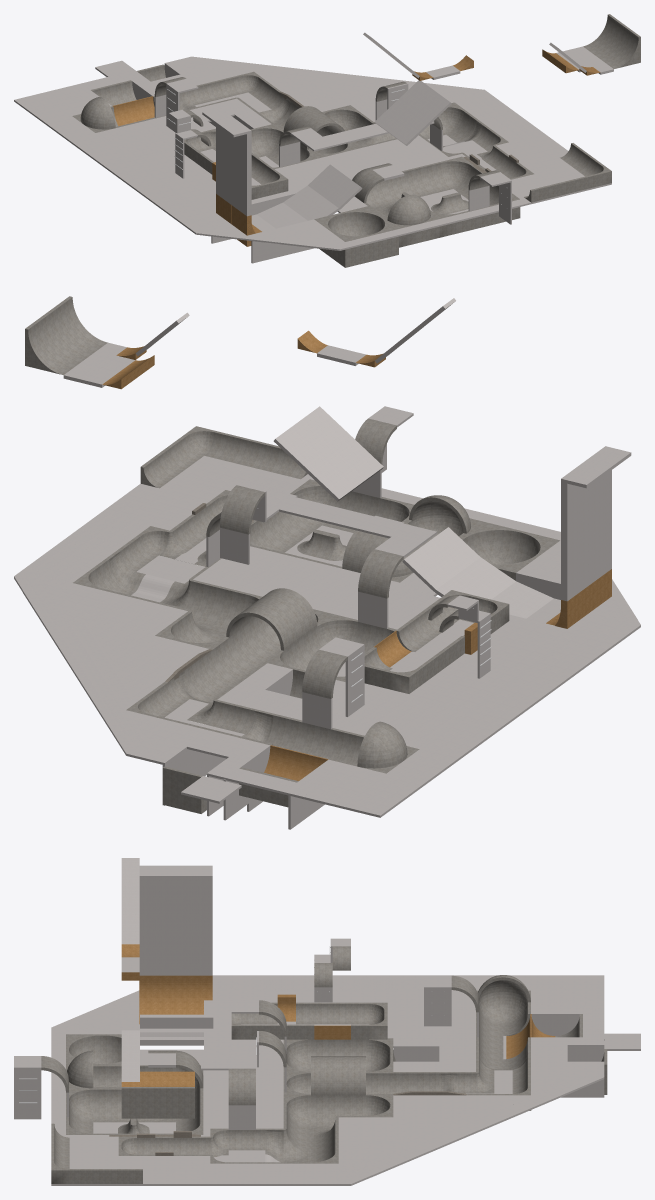
File: megapark-textured.glb
3 renders of one model, top to bottom at view 1: azimuth 30°, elevation 25°; view 2: azimuth 150°, elevation 25°; view 3: azimuth 270°, elevation 25°, orthographic. The views are drawn at different scales.
Parts seen in each view (by area): view 1: cmn_prp_dev_bk_bowl_bowlfloorlarge_mesh (×42), cmn_prp_dev_bk_bowl_bowlstraightmedium_mesh (×6), cmn_prp_dev_bk_bowl_bowlcornerroundoutlarge_mesh (×4), cmn_prp_dev_bk_bowl_bowlcornerroundoutmedium_mesh (×4), cmn_prp_dev_bk_bowl_bowlstraightlarge_mesh (×2), cmn_prp_dev_bk_bowl_bowlcradlemedium_mesh (×2), cmn_prp_dev_bk_bowl_bowlfloormedium_mesh (×2), cmn_prp_dev_bk_vert_fullpipemedium_mesh (×2), cmn_prp_dev_bk_vert_quarterpipespinemedium_mesh (×2), cmn_prp_dev_bk_vert_quarterpipevertlargeextended_mesh; view 2: cmn_prp_dev_bk_bowl_bowlfloorlarge_mesh (×52), cmn_prp_dev_bk_bowl_bowlstraightmedium_mesh (×11), cmn_prp_dev_bk_vert_fullpipemedium_mesh (×7), cmn_prp_dev_bk_bowl_bowlstraightlarge_mesh (×3), cmn_prp_dev_bk_bowl_bowlfloormedium_mesh (×3), cmn_prp_dev_bk_bowl_bowlcornerroundoutlarge_mesh (×2), cmn_prp_dev_bk_bowl_bowlcradlemedium_mesh, cmn_prp_dev_bk_bowl_bowlcornerroundoutmedium_mesh, cmn_prp_dev_bk_vert_quarterpipevertlargeextended_mesh, cmn_prp_dev_bk_vert_quarterpipespinemedium_mesh, cmn_prp_dev_bk_bowl_bowlstraightsmalltomediumflipped_mesh; view 3: cmn_prp_dev_bk_bowl_bowlfloorlarge_mesh (×42), cmn_prp_dev_bk_bowl_bowlcornerroundoutmedium_mesh (×8), cmn_prp_dev_bk_bowl_bowlstraightmedium_mesh (×8), cmn_prp_dev_bk_vert_fullpipemedium_mesh (×4), cmn_prp_dev_bk_vert_quarterpipevertlargeextended_mesh (×2), cmn_prp_dev_bk_bowl_bowlfloormedium_mesh (×4), cmn_prp_dev_bk_bowl_bowlstraightlarge_mesh (×2), cmn_prp_dev_bk_bowl_bowlcornerroundoutlarge_mesh (×2), cmn_prp_dev_bk_vert_fullpipesmall_mesh (×2), cmn_prp_dev_bk_bowl_bowlcradlemedium_mesh, cmn_prp_dev_bk_bowl_bowlstraightsmalltomedium_mesh, cmn_prp_dev_bk_bowl_bowlcornerroundinmedium_mesh.
Boxes of the visible parts, x1,y1,x2,y2 form: cmn_prp_dev_bk_bowl_bowlfloorlarge_mesh (×42): (14,56,569,263); cmn_prp_dev_bk_bowl_bowlstraightmedium_mesh (×6): (111,80,477,208); cmn_prp_dev_bk_bowl_bowlcornerroundoutlarge_mesh (×4): (314,206,398,267); cmn_prp_dev_bk_bowl_bowlcornerroundoutmedium_mesh (×4): (254,102,472,188); cmn_prp_dev_bk_bowl_bowlstraightlarge_mesh (×2): (583,14,640,68); cmn_prp_dev_bk_bowl_bowlcradlemedium_mesh (×2): (83,98,419,225); cmn_prp_dev_bk_bowl_bowlfloormedium_mesh (×2): (279,142,489,211); cmn_prp_dev_bk_vert_fullpipemedium_mesh (×2): (283,106,384,203); cmn_prp_dev_bk_vert_quarterpipespinemedium_mesh (×2): (113,96,154,126); cmn_prp_dev_bk_vert_quarterpipevertlargeextended_mesh: (231,205,261,246); cmn_prp_dev_bk_bowl_bowlfloorlarge_mesh (×52): (35,468,625,817); cmn_prp_dev_bk_bowl_bowlstraightmedium_mesh (×11): (184,511,361,763); cmn_prp_dev_bk_vert_fullpipemedium_mesh (×7): (220,418,403,698); cmn_prp_dev_bk_bowl_bowlstraightlarge_mesh (×3): (25,296,206,813); cmn_prp_dev_bk_bowl_bowlfloormedium_mesh (×3): (220,527,388,729); cmn_prp_dev_bk_bowl_bowlcornerroundoutlarge_mesh (×2): (461,521,559,564); cmn_prp_dev_bk_bowl_bowlcradlemedium_mesh: (357,724,402,768); cmn_prp_dev_bk_bowl_bowlcornerroundoutmedium_mesh: (317,613,357,645); cmn_prp_dev_bk_vert_quarterpipevertlargeextended_mesh: (546,585,589,628); cmn_prp_dev_bk_vert_quarterpipespinemedium_mesh: (264,745,299,779); cmn_prp_dev_bk_bowl_bowlstraightsmalltomediumflipped_mesh: (106,550,145,592); cmn_prp_dev_bk_bowl_bowlfloorlarge_mesh (×42): (52,975,640,1185); cmn_prp_dev_bk_bowl_bowlcornerroundoutmedium_mesh (×8): (66,990,530,1127); cmn_prp_dev_bk_bowl_bowlstraightmedium_mesh (×8): (93,1039,439,1127); cmn_prp_dev_bk_vert_fullpipemedium_mesh (×4): (228,1000,365,1105); cmn_prp_dev_bk_vert_quarterpipevertlargeextended_mesh (×2): (139,975,212,1024); cmn_prp_dev_bk_bowl_bowlfloormedium_mesh (×4): (14,1003,451,1129); cmn_prp_dev_bk_bowl_bowlstraightlarge_mesh (×2): (121,1087,194,1118); cmn_prp_dev_bk_bowl_bowlcornerroundoutlarge_mesh (×2): (66,1034,121,1063); cmn_prp_dev_bk_vert_fullpipesmall_mesh (×2): (314,946,350,987); cmn_prp_dev_bk_bowl_bowlcradlemedium_mesh: (67,1053,93,1088); cmn_prp_dev_bk_bowl_bowlstraightsmalltomedium_mesh: (265,1128,283,1162); cmn_prp_dev_bk_bowl_bowlcornerroundinmedium_mesh: (283,1128,310,1162).
Bounding box in the file's own units: 93.97 × 47.11 × 103.
Materials: 5 (5 with a texture image).
